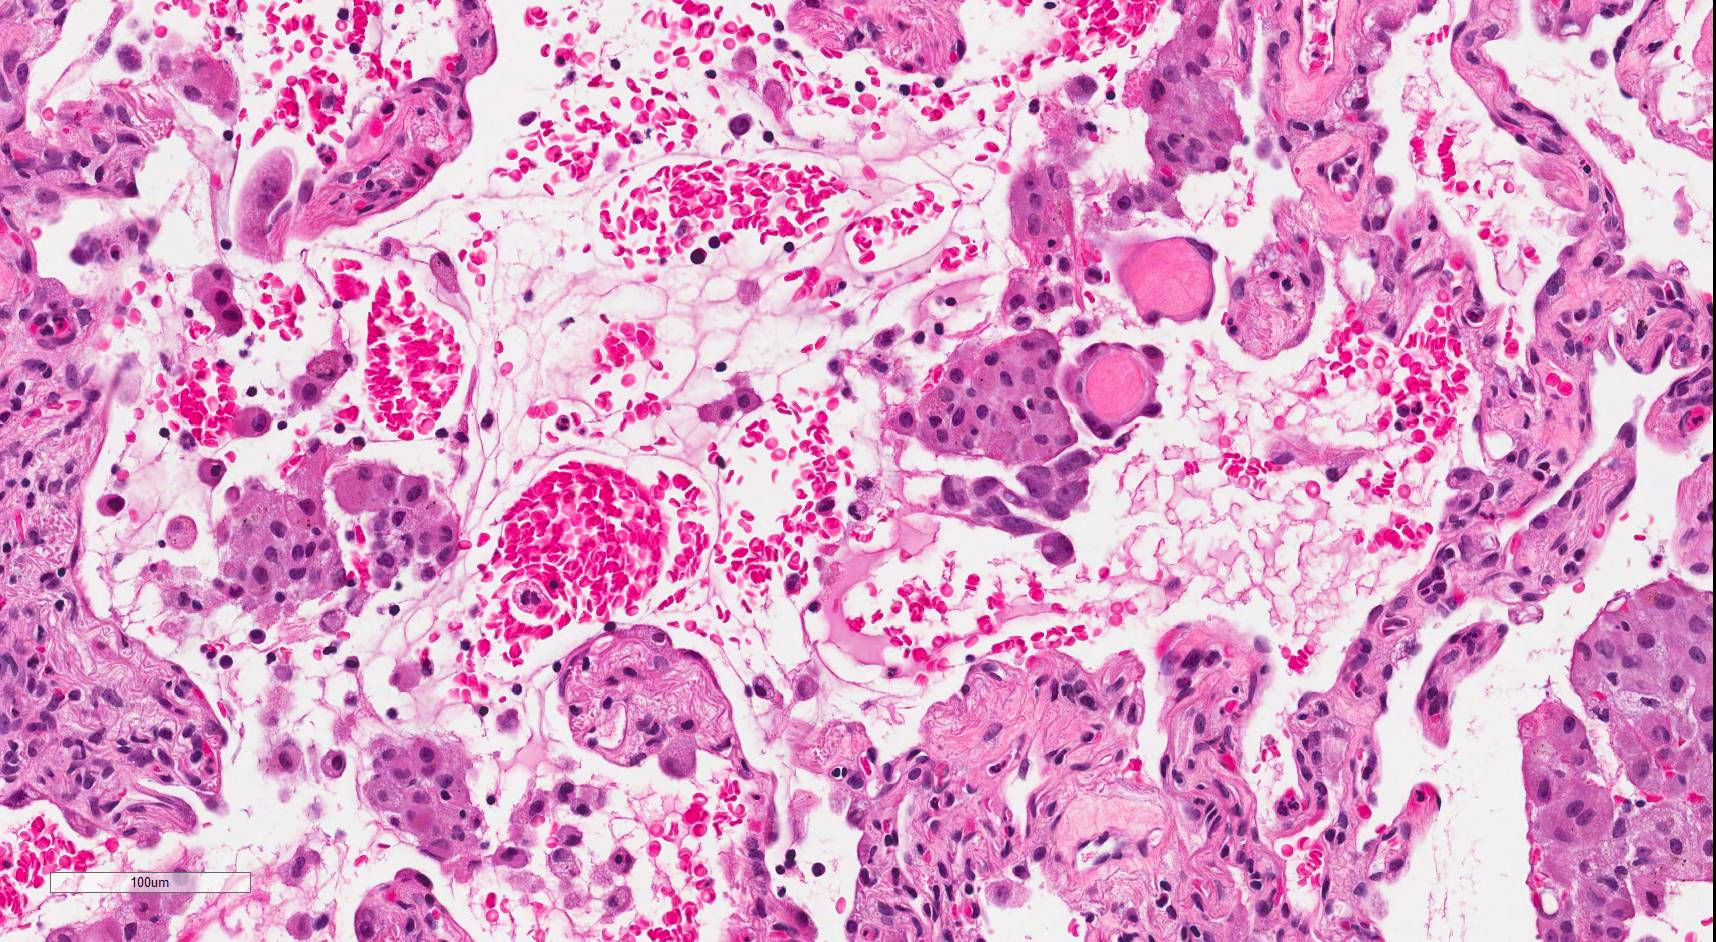stas: (933, 448, 1100, 572)
